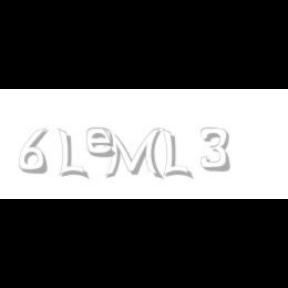3: (200, 128, 232, 172)
6: (18, 128, 48, 176)
L: (58, 128, 86, 180), (162, 128, 190, 180)
M: (102, 128, 162, 180)
e: (86, 128, 120, 158)
